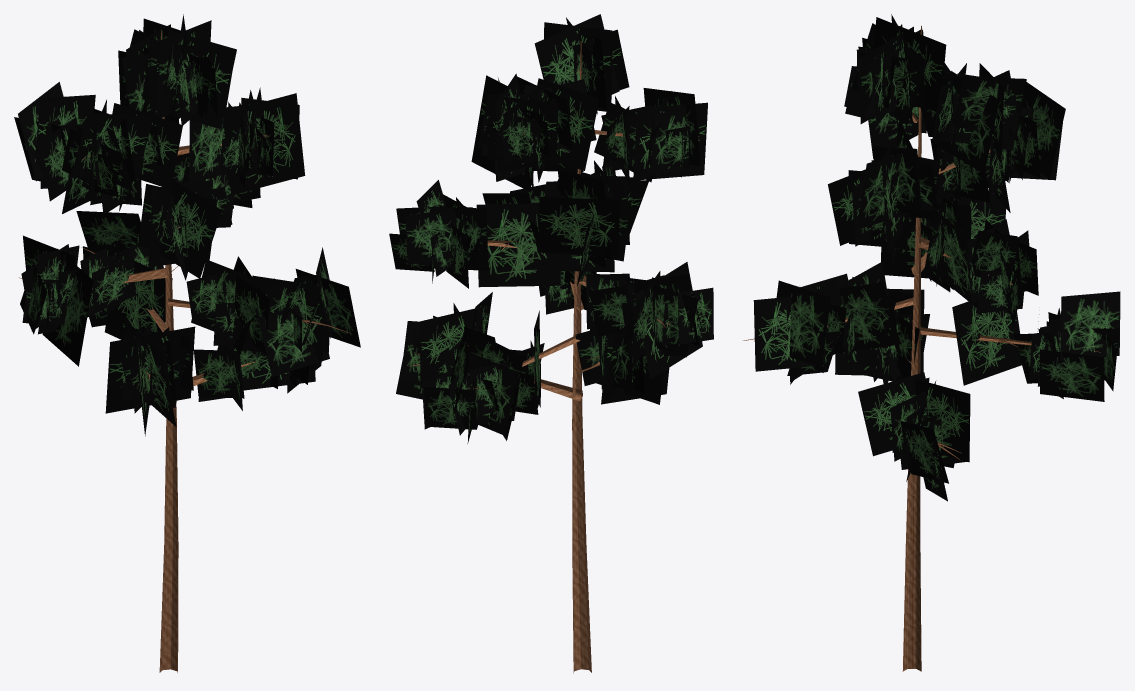
Rendered from Pine_Weathered_LOD1.glb.
The picture shows the model from 3 angles, left to right: view 1: azimuth 30°, elevation 25°; view 2: azimuth 150°, elevation 25°; view 3: azimuth 270°, elevation 25°; orthographic projection.
Visible parts, largest first — view 1: Leaves_03, Leaves_04, Leaves_08, Leaves_09, Leaves_11, Leaves_01, Leaves_07, Leaves_06, Leaves_02, Trunk_Mesh, Leaves_00, Leaves_10 (+1 smaller); view 2: Leaves_05, Leaves_04, Leaves_10, Leaves_09, Leaves_02, Leaves_07, Leaves_00, Leaves_11, Trunk_Mesh, Leaves_01, Leaves_08, Leaves_03 (+1 smaller); view 3: Leaves_02, Leaves_03, Leaves_00, Leaves_05, Leaves_11, Leaves_10, Leaves_07, Leaves_08, Trunk_Mesh, Leaves_01, Leaves_04, Leaves_06 (+1 smaller).
Part boxes in pixels (bbox=[...]): Leaves_03: bbox=[186, 247, 360, 377]; Leaves_04: bbox=[20, 235, 135, 366]; Leaves_08: bbox=[189, 87, 305, 195]; Leaves_09: bbox=[62, 99, 182, 202]; Leaves_11: bbox=[142, 14, 236, 128]; Leaves_01: bbox=[105, 318, 195, 436]; Leaves_07: bbox=[14, 82, 141, 214]; Leaves_06: bbox=[138, 177, 222, 280]; Leaves_02: bbox=[76, 211, 172, 339]; Trunk_Mesh: bbox=[159, 29, 178, 672]; Leaves_00: bbox=[193, 278, 321, 410]; Leaves_10: bbox=[118, 18, 180, 123]; Leaves_05: bbox=[389, 180, 560, 288]; Leaves_04: bbox=[586, 262, 713, 378]; Leaves_10: bbox=[487, 73, 599, 182]; Leaves_09: bbox=[594, 88, 707, 183]; Leaves_02: bbox=[422, 310, 540, 443]; Leaves_07: bbox=[537, 170, 631, 285]; Leaves_00: bbox=[396, 292, 544, 414]; Leaves_11: bbox=[534, 14, 629, 114]; Trunk_Mesh: bbox=[572, 41, 591, 673]; Leaves_01: bbox=[575, 329, 669, 404]; Leaves_08: bbox=[471, 75, 583, 191]; Leaves_03: bbox=[510, 179, 596, 314]; Leaves_02: bbox=[952, 291, 1120, 401]; Leaves_03: bbox=[753, 262, 900, 384]; Leaves_00: bbox=[858, 372, 970, 501]; Leaves_05: bbox=[923, 206, 1038, 326]; Leaves_11: bbox=[852, 14, 946, 125]; Leaves_10: bbox=[920, 63, 1026, 173]; Leaves_07: bbox=[930, 82, 1065, 212]; Leaves_08: bbox=[856, 120, 939, 253]; Trunk_Mesh: bbox=[902, 25, 921, 671]; Leaves_01: bbox=[835, 288, 929, 383]; Leaves_04: bbox=[881, 187, 1006, 291]; Leaves_06: bbox=[828, 169, 915, 269].
Bounding box in the file's own units: 9.1 × 18.63 × 9.74.
Materials: 2 (2 with a texture image).
